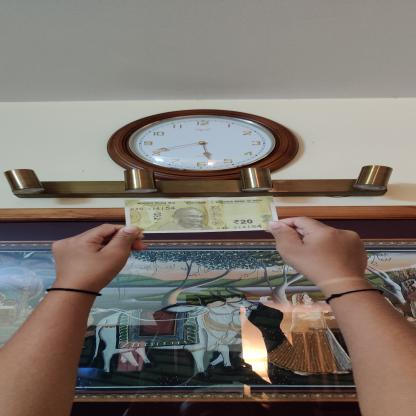New20Front: (121, 195, 286, 233)
